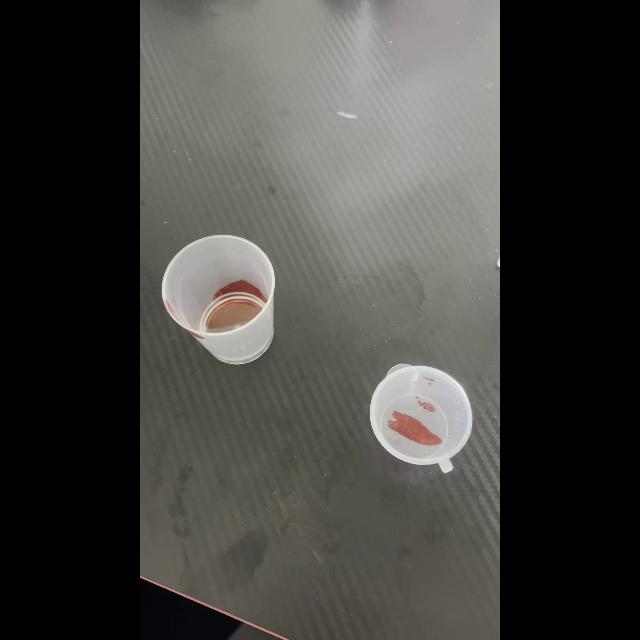dirty: (161, 236, 277, 364), (368, 364, 474, 470)
